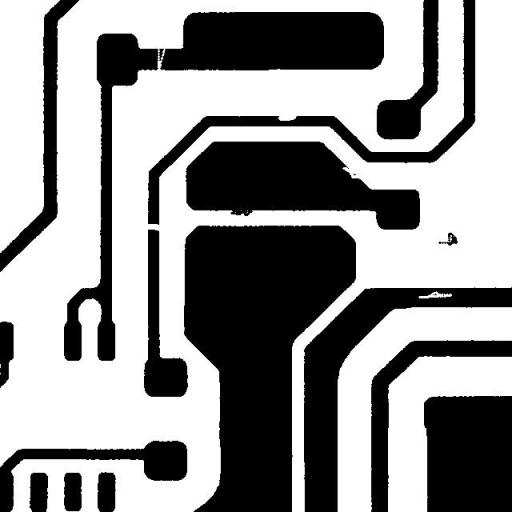copper: (430, 225, 465, 253)
mousebite: (334, 159, 368, 186), (270, 106, 304, 128)
open: (150, 36, 174, 82), (137, 216, 171, 239)
pin-hole: (410, 283, 460, 306)
spur: (219, 198, 260, 223)
